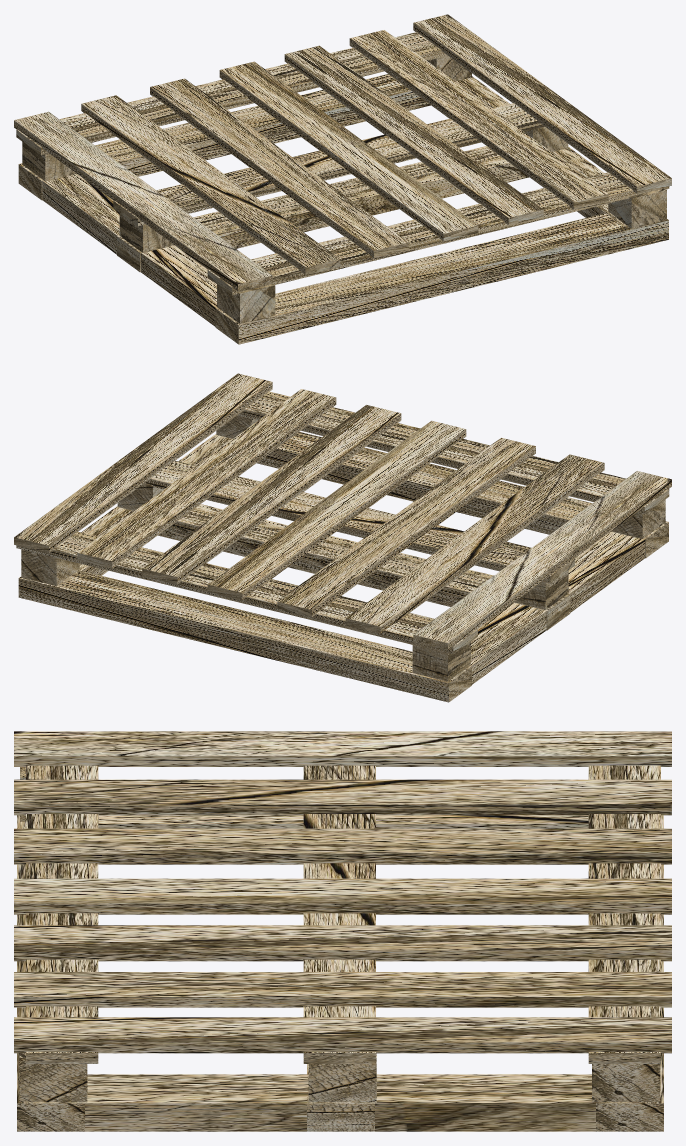
File: pallet.fbx
The picture shows the model from 3 angles, top to bottom: view 1: azimuth 30°, elevation 25°; view 2: azimuth 150°, elevation 25°; view 3: azimuth 270°, elevation 25°; orthographic projection. The views are drawn at different scales.
Visible parts, largest first — view 1: Cube.002, Cube.018, Cube.020, Cube.017, Cube.016, Cube.015, Cube.021, Cube.019, Cube.004, Cube.011, Cube.001, Cube (+9 smaller); view 2: Cube.001, Cube.020, Cube.016, Cube.018, Cube.017, Cube.021, Cube.015, Cube.019, Cube.004, Cube.014, Cube, Cube.002 (+9 smaller); view 3: Cube.003, Cube.019, Cube.018, Cube.020, Cube.017, Cube.015, Cube.021, Cube.016, Cube.011, Cube.014, Cube.013, Cube.004 (+6 smaller).
Part boxes in pixels (x1,y1,x2,y2): Cube.002: [215, 213, 668, 344]; Cube.018: [219, 61, 478, 241]; Cube.020: [81, 95, 340, 274]; Cube.017: [284, 45, 543, 225]; Cube.016: [349, 30, 608, 209]; Cube.015: [413, 14, 671, 193]; Cube.021: [14, 111, 272, 291]; Cube.019: [150, 78, 408, 258]; Cube.004: [42, 174, 234, 326]; Cube.011: [207, 172, 669, 295]; Cube.001: [18, 74, 430, 200]; Cube: [117, 146, 569, 272]; Cube.001: [18, 570, 471, 702]; Cube.020: [345, 454, 604, 633]; Cube.016: [77, 389, 336, 568]; Cube.018: [207, 420, 466, 600]; Cube.017: [142, 405, 401, 584]; Cube.021: [413, 471, 671, 650]; Cube.015: [14, 373, 272, 553]; Cube.019: [277, 437, 535, 617]; Cube.004: [453, 531, 645, 684]; Cube.014: [16, 531, 477, 654]; Cube: [158, 504, 570, 630]; Cube.002: [257, 432, 668, 558]; Cube.003: [33, 1074, 645, 1131]; Cube.019: [14, 828, 671, 864]; Cube.018: [14, 878, 671, 914]; Cube.020: [14, 779, 671, 815]; Cube.017: [14, 925, 671, 961]; Cube.015: [14, 1017, 671, 1053]; Cube.021: [14, 731, 671, 766]; Cube.016: [14, 972, 671, 1007]; Cube.011: [26, 765, 98, 1063]; Cube.014: [588, 765, 660, 1063]; Cube.013: [303, 765, 375, 1063]; Cube.004: [98, 815, 588, 828].
Size of the model in its own units: 691 by 93.35 by 614.
